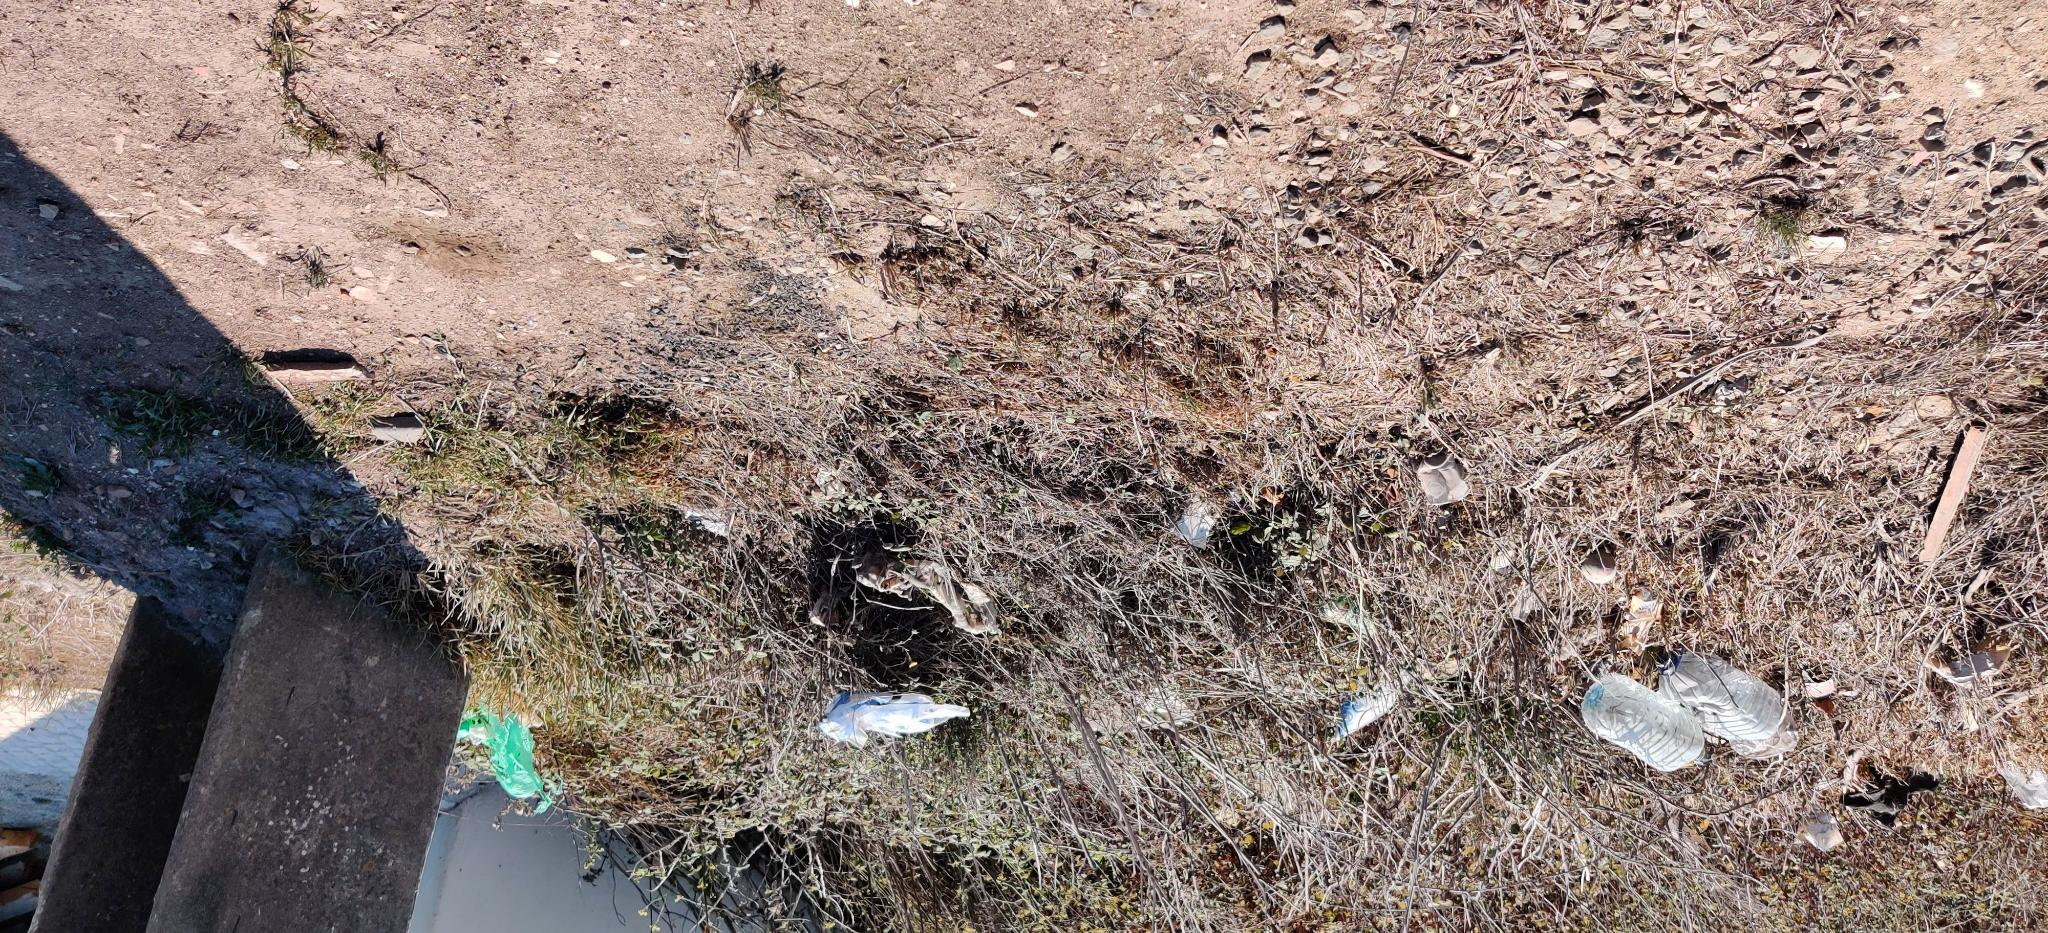Plastic: (1575, 653, 1809, 776), (439, 694, 559, 834)
Trash: (814, 673, 993, 755)
